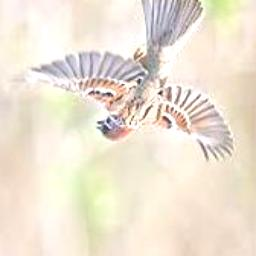Sparrow: (15, 0, 235, 164)
